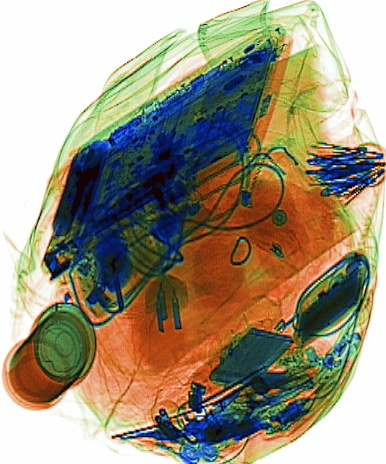powerbank: (206, 322, 294, 390)
